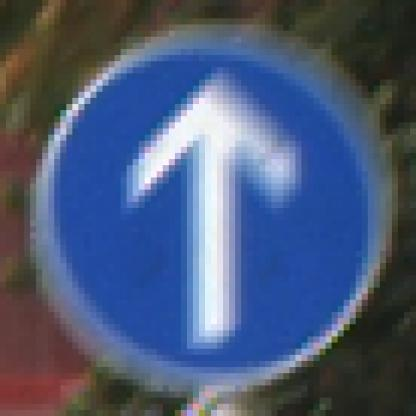straight: (24, 19, 404, 392)
